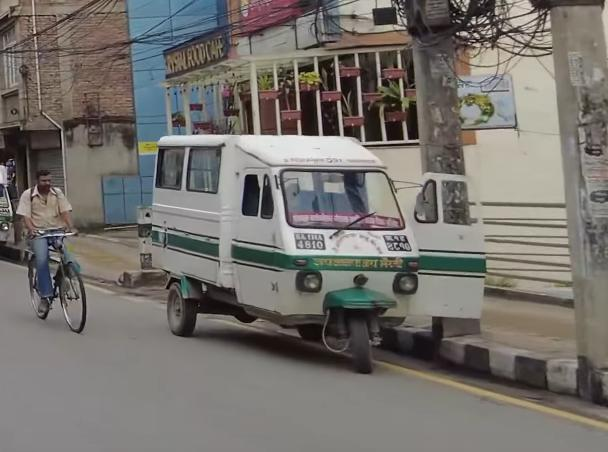tempo: (145, 121, 427, 383)
